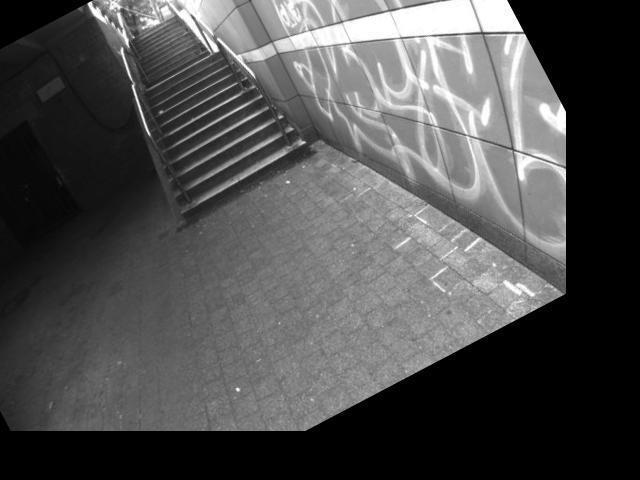Escaleras: (127, 35, 313, 218), (110, 3, 212, 94)
